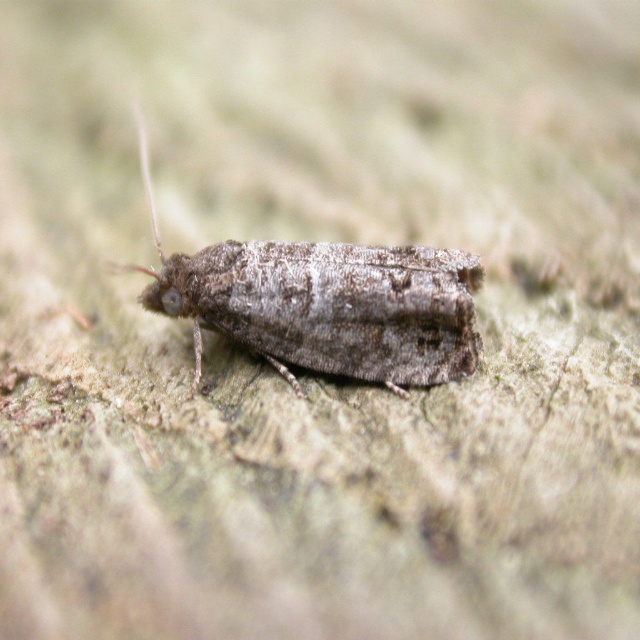Moths and butterflies: (104, 103, 487, 401)
